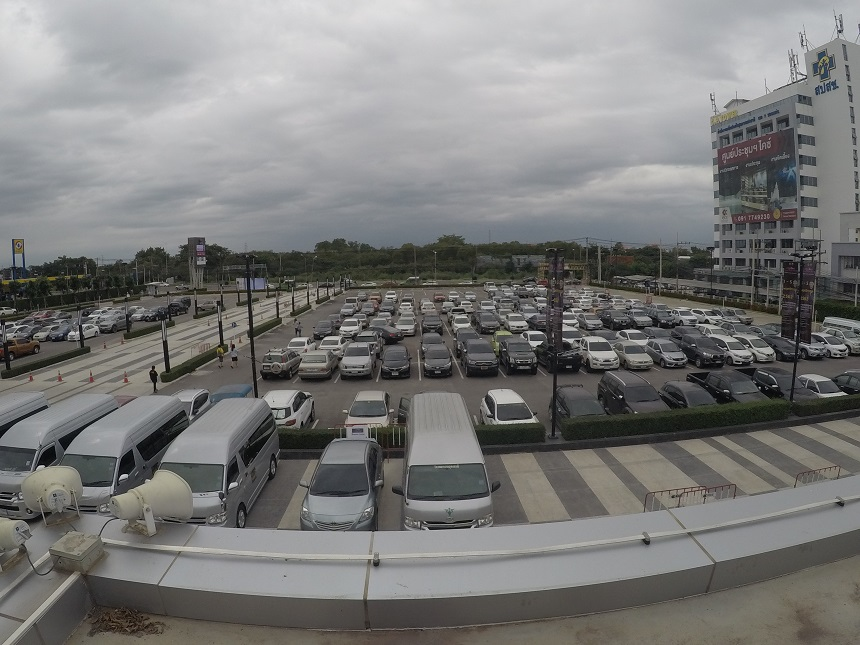busy: (168, 439, 257, 503), (402, 466, 491, 520), (297, 472, 376, 527), (76, 435, 151, 476), (1, 430, 57, 459), (608, 384, 658, 413), (485, 396, 531, 420), (268, 394, 312, 419), (554, 391, 595, 415), (762, 373, 801, 397), (179, 387, 209, 415), (338, 354, 373, 378), (668, 384, 704, 407), (346, 402, 386, 422), (504, 352, 537, 376), (263, 352, 293, 378), (713, 378, 748, 400), (377, 353, 412, 375), (546, 353, 582, 374), (298, 356, 331, 378), (462, 356, 498, 376), (661, 347, 688, 370), (424, 354, 451, 376), (696, 347, 724, 368), (586, 352, 618, 369), (623, 351, 653, 369), (1, 397, 21, 422), (809, 375, 832, 396), (840, 372, 860, 392), (755, 346, 777, 362), (729, 350, 751, 363), (782, 345, 802, 358), (825, 344, 846, 356), (808, 341, 823, 357), (852, 337, 860, 351)
